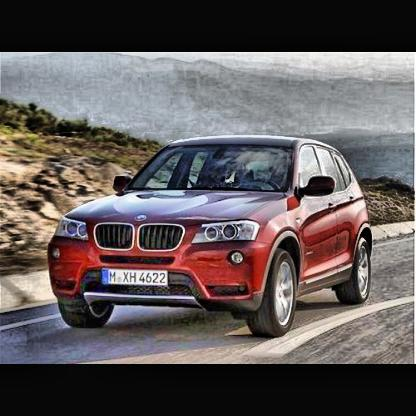BMW X3 SUV 2012: (48, 136, 374, 340)
